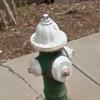Hydrant: (21, 7, 74, 96)
